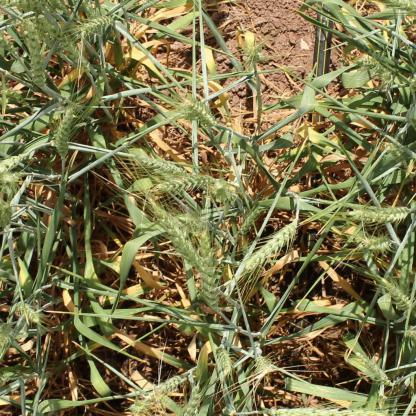whd: (143, 194, 198, 267), (245, 218, 298, 270), (48, 27, 90, 75), (198, 228, 220, 310), (22, 20, 44, 86), (356, 351, 394, 387), (266, 406, 390, 416), (346, 205, 410, 224), (380, 277, 414, 311), (157, 174, 217, 193), (55, 106, 75, 159), (136, 157, 191, 176), (182, 98, 218, 127), (183, 380, 203, 416), (236, 209, 260, 237), (79, 14, 113, 33), (0, 150, 29, 171), (15, 301, 41, 324), (82, 1, 100, 33), (362, 233, 392, 252), (0, 171, 21, 197), (157, 374, 183, 395), (214, 347, 233, 374), (178, 214, 204, 233), (380, 0, 416, 13), (4, 88, 28, 107), (0, 321, 13, 353), (376, 64, 394, 87), (0, 36, 18, 58), (0, 198, 13, 228), (130, 398, 151, 415), (245, 47, 266, 62), (254, 355, 272, 372), (354, 58, 379, 70), (48, 0, 67, 14), (213, 181, 228, 196), (390, 145, 404, 161), (0, 373, 10, 388), (406, 326, 416, 340), (410, 73, 415, 96), (378, 394, 388, 404)
